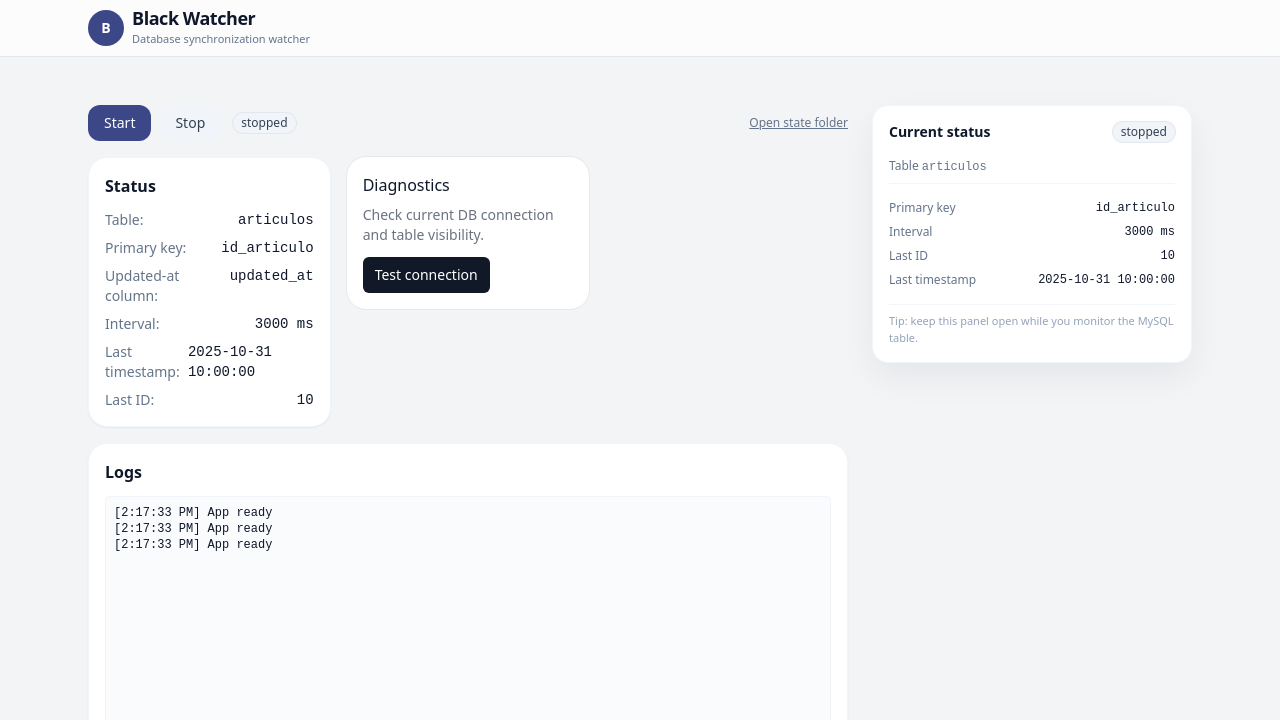
Scenario: App smoke test › renders and executes start/stop flow
The width and height of the screenshot is (1280, 720).
Expected: the 1st text "stopped" is shown, [233,113,296,133]
Expected: the 1st text "[2:17:33 PM] App ready" is shown, [114,506,272,520]
Click the button "Start": (120, 123) [88,105,151,141]
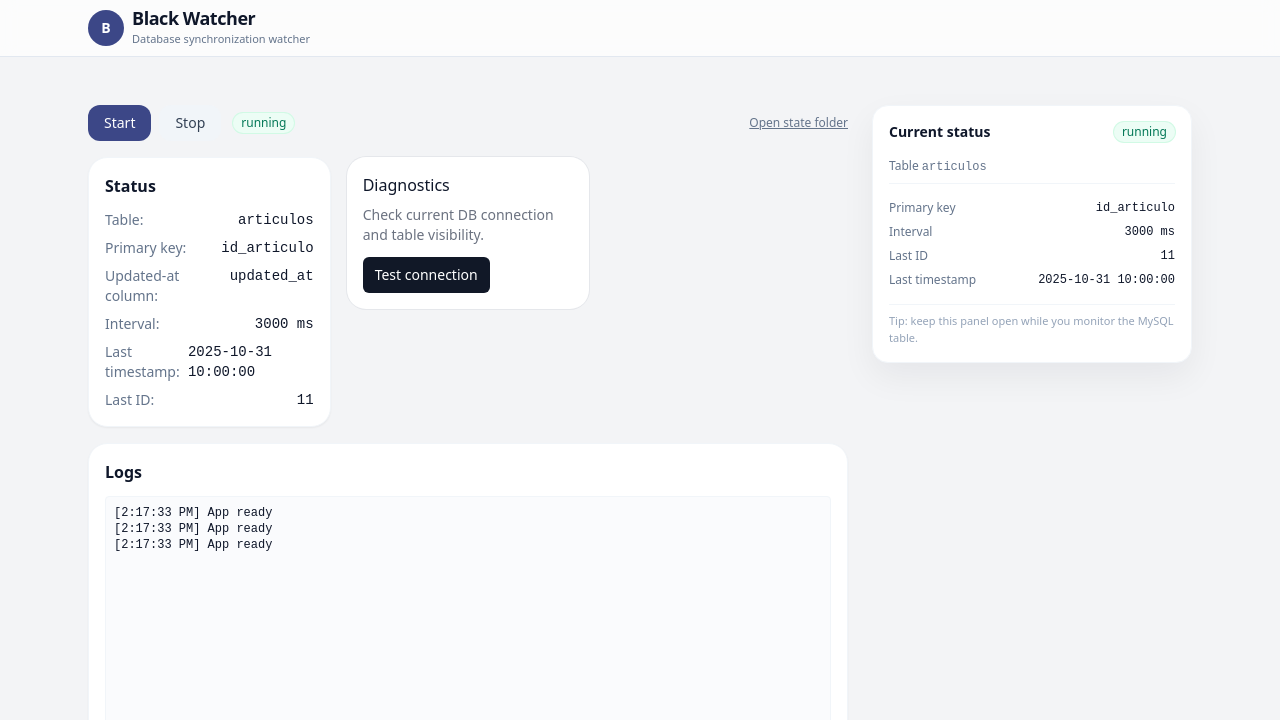
Expected: the 1st text "running" is shown, [233,113,294,133]
Click the button "Stop": (190, 123) [159,105,221,141]
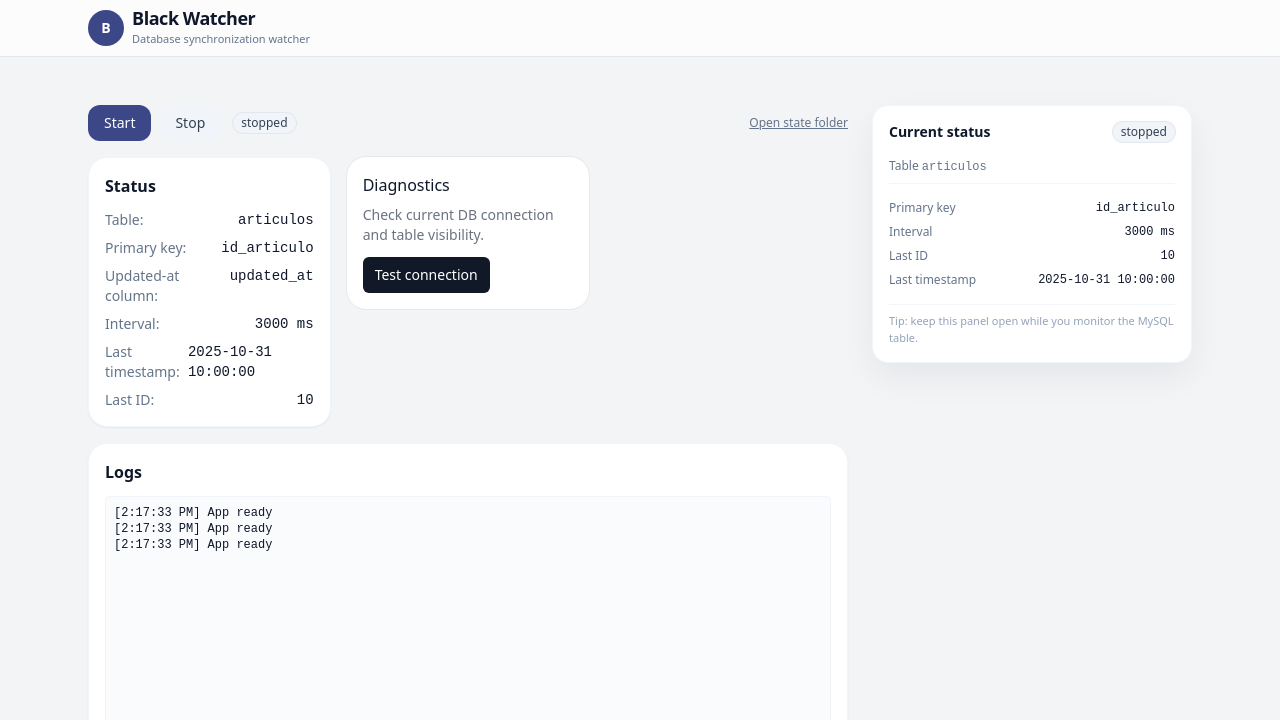
Expected: the 1st text "stopped" is shown, [233,113,296,133]
